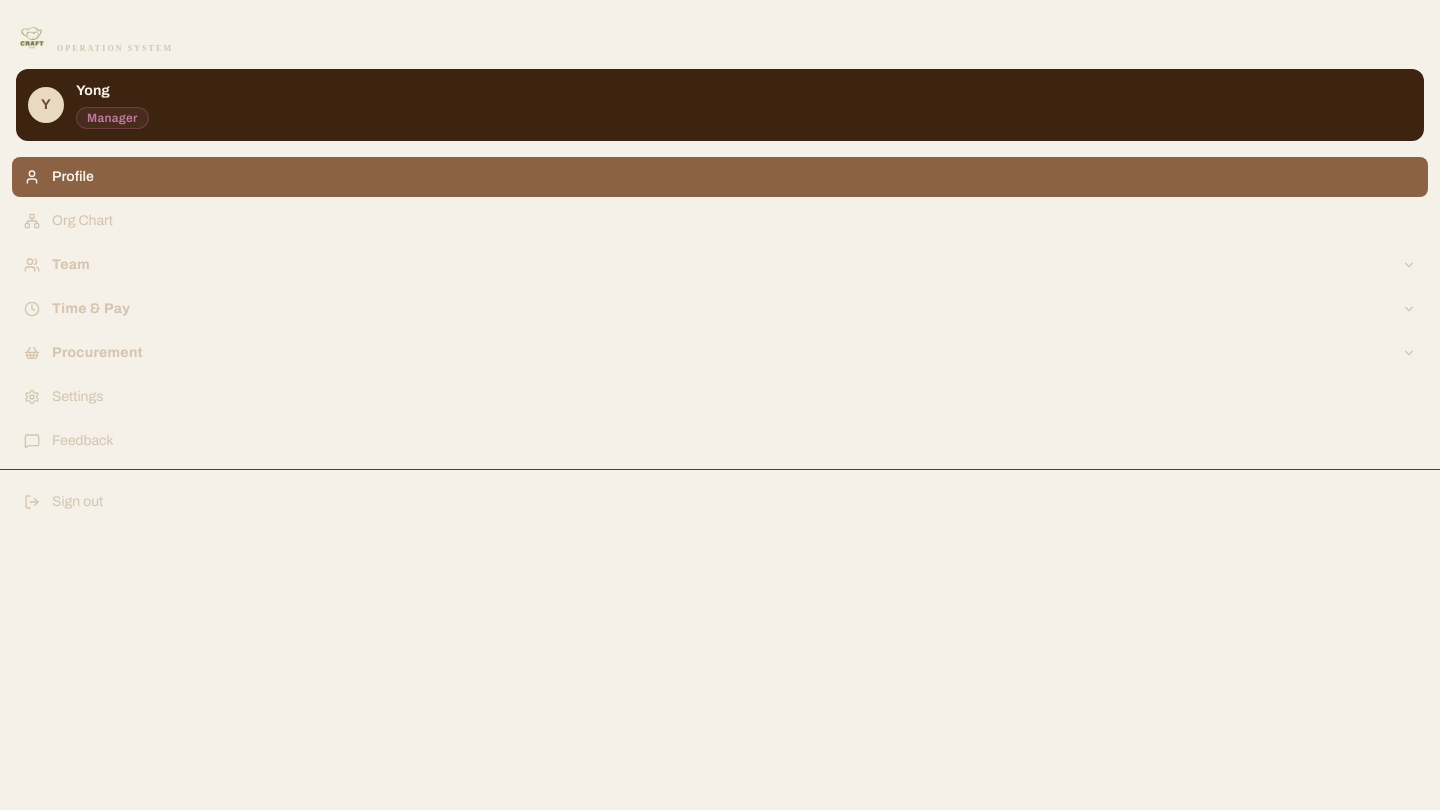
Sidebar 两级导航 › 点击折叠的大类标题只展开子项,不触发导航
This screenshot has width=1440, height=810.
Step 1. Click the button "Team" → [71, 264], box [12,245,1428,285]
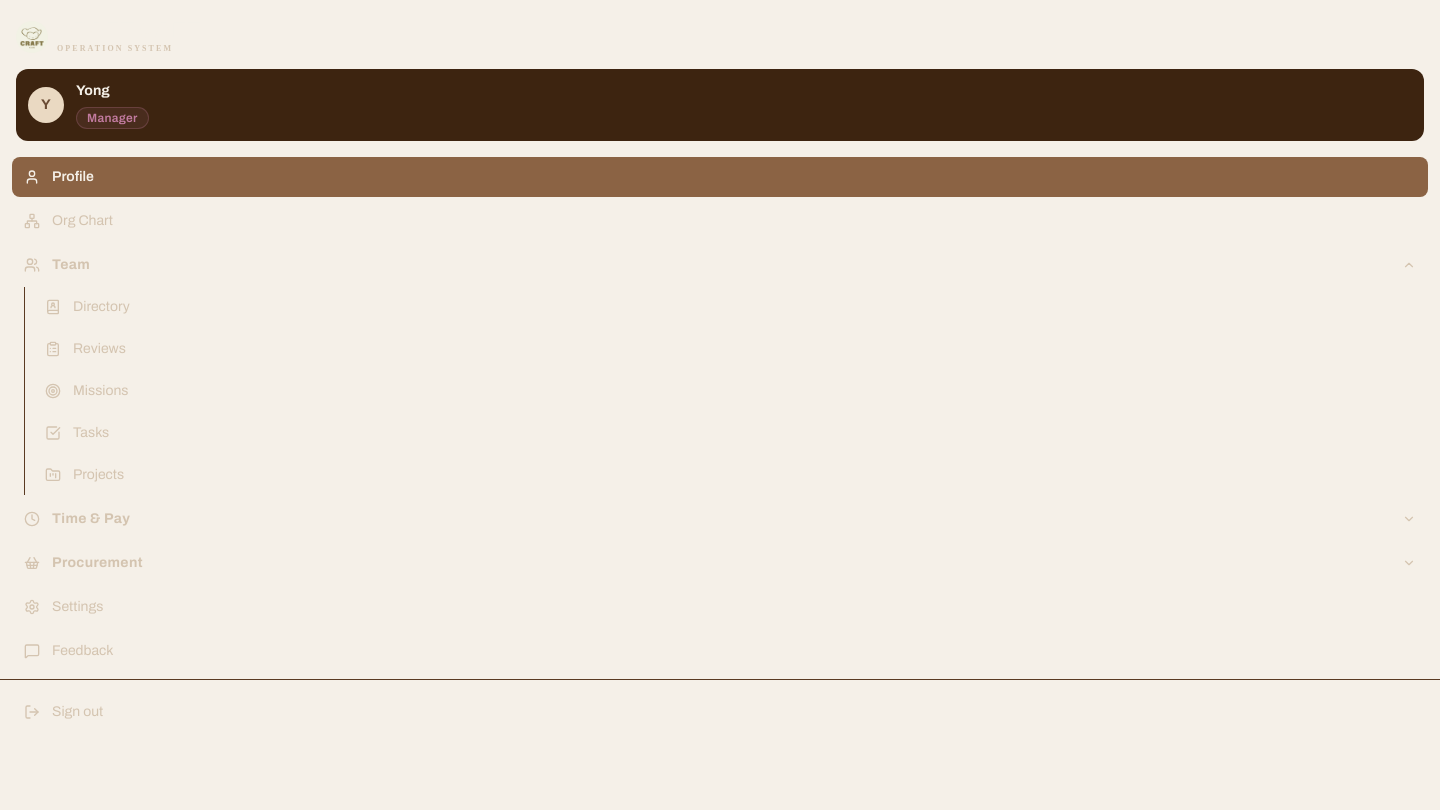
Check: the text "Directory" is shown, box [73,297,130,317]
